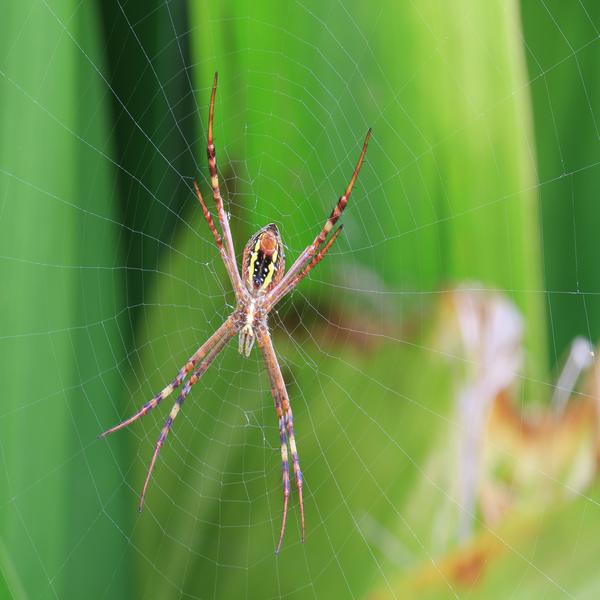St Andrew's Cross Spider: (115, 76, 369, 542)
